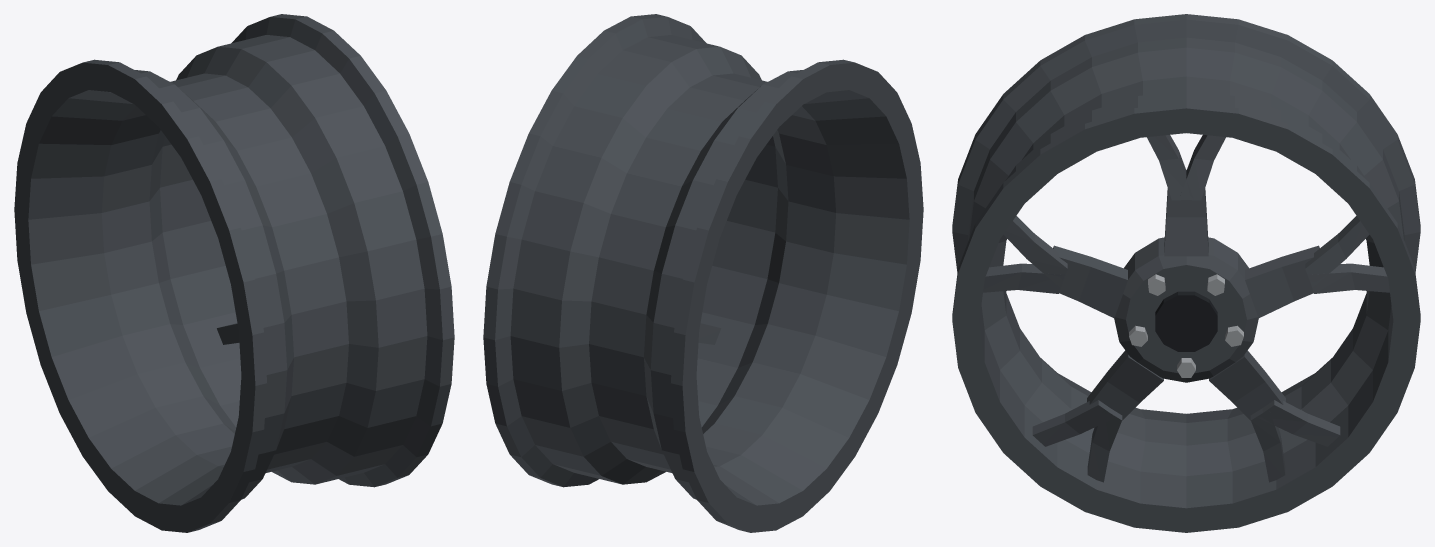
Rendered from rim_split5_17.glb.
3 renders of one model, left to right at view 1: azimuth 30°, elevation 25°; view 2: azimuth 150°, elevation 25°; view 3: azimuth 270°, elevation 25°, orthographic. The views are drawn at different scales.
Parts seen in each view (by area): view 1: model; view 2: model; view 3: model.
Part boxes in pixels (box(x1,y1,x2,y2)): model: box(14, 14, 454, 532); model: box(483, 14, 923, 532); model: box(952, 14, 1420, 532).
Size of the model in its own units: 0.2302 by 0.4638 by 0.4638.
Materials: 3 (1 with a texture image).
